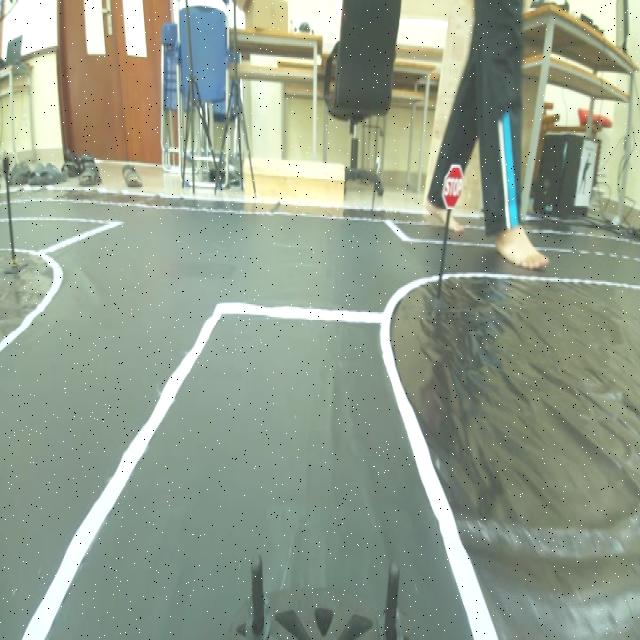stop: (440, 159, 466, 210)
